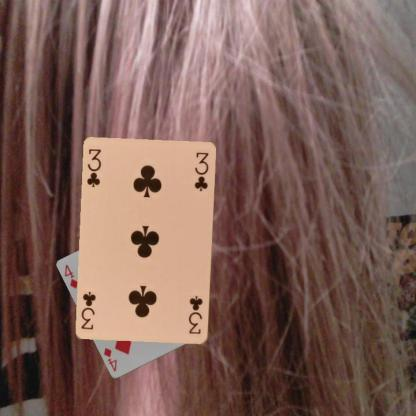3c: (186, 293, 204, 336), (84, 146, 102, 189)
4d: (62, 262, 79, 290)
